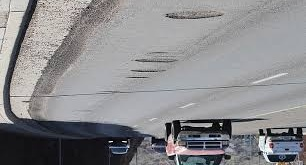pothole: (164, 9, 224, 21), (135, 55, 181, 62), (126, 68, 168, 72), (125, 76, 149, 80)
